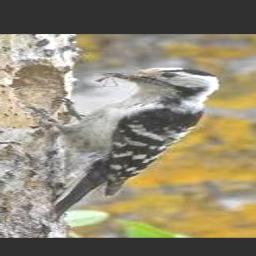Woodpecker: (52, 67, 220, 217)
